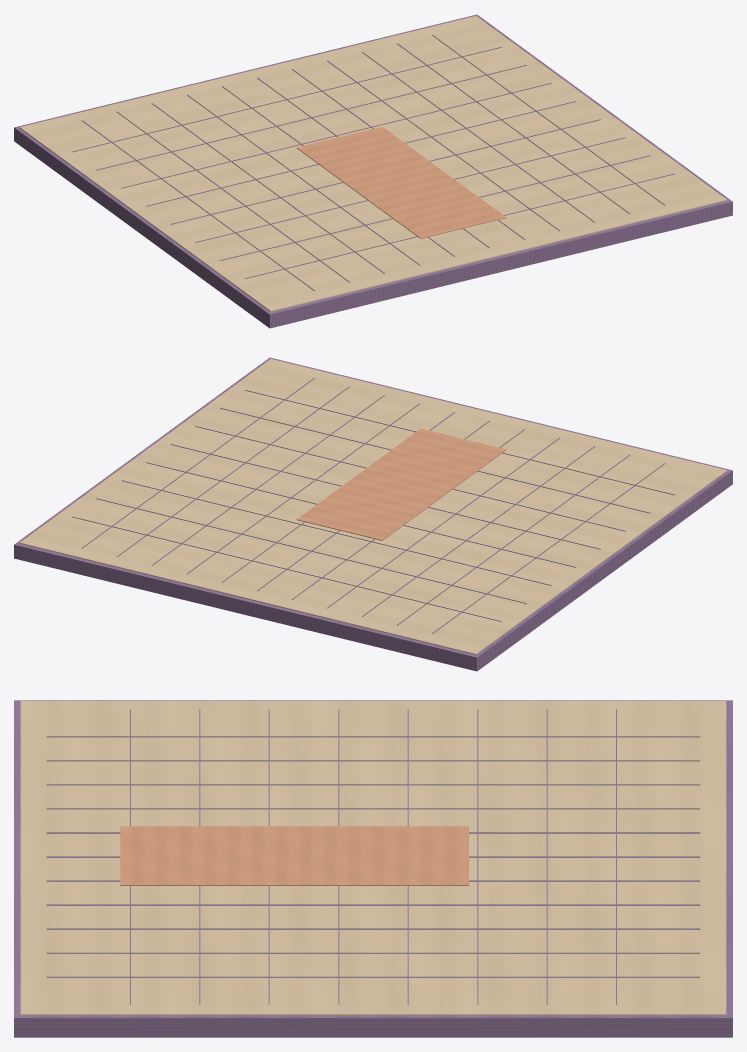
File: atlas100-s081-a07.glb
The picture shows the model from 3 angles, top to bottom: view 1: azimuth 30°, elevation 25°; view 2: azimuth 150°, elevation 25°; view 3: azimuth 270°, elevation 25°; orthographic projection. The views are drawn at different scales.
Parts seen in each view (by area): view 1: atlas100-s081-a07:part-001, atlas100-s081-a07:part-000, atlas100-s081-a07:part-021, atlas100-s081-a07:part-013, atlas100-s081-a07:part-014, atlas100-s081-a07:part-015, atlas100-s081-a07:part-020, atlas100-s081-a07:part-018, atlas100-s081-a07:part-019, atlas100-s081-a07:part-017, atlas100-s081-a07:part-016; view 2: atlas100-s081-a07:part-001, atlas100-s081-a07:part-000, atlas100-s081-a07:part-021, atlas100-s081-a07:part-013, atlas100-s081-a07:part-015, atlas100-s081-a07:part-014, atlas100-s081-a07:part-020, atlas100-s081-a07:part-016, atlas100-s081-a07:part-017, atlas100-s081-a07:part-018, atlas100-s081-a07:part-019; view 3: atlas100-s081-a07:part-001, atlas100-s081-a07:part-000, atlas100-s081-a07:part-021, atlas100-s081-a07:part-010, atlas100-s081-a07:part-009, atlas100-s081-a07:part-012, atlas100-s081-a07:part-002, atlas100-s081-a07:part-003, atlas100-s081-a07:part-004, atlas100-s081-a07:part-005, atlas100-s081-a07:part-011, atlas100-s081-a07:part-006 (+4 smaller).
Part boxes in pixels (<box>): atlas100-s081-a07:part-001: <box>19,16,727,311</box>; atlas100-s081-a07:part-000: <box>14,14,732,328</box>; atlas100-s081-a07:part-021: <box>297,126,506,238</box>; atlas100-s081-a07:part-013: <box>72,47,502,152</box>; atlas100-s081-a07:part-014: <box>96,65,526,170</box>; atlas100-s081-a07:part-015: <box>121,83,551,188</box>; atlas100-s081-a07:part-020: <box>244,173,674,278</box>; atlas100-s081-a07:part-018: <box>195,137,625,242</box>; atlas100-s081-a07:part-019: <box>220,155,650,260</box>; atlas100-s081-a07:part-017: <box>170,119,600,224</box>; atlas100-s081-a07:part-016: <box>146,101,576,206</box>; atlas100-s081-a07:part-001: <box>19,359,727,654</box>; atlas100-s081-a07:part-000: <box>14,357,732,671</box>; atlas100-s081-a07:part-021: <box>296,428,506,540</box>; atlas100-s081-a07:part-013: <box>72,516,502,621</box>; atlas100-s081-a07:part-015: <box>121,480,551,585</box>; atlas100-s081-a07:part-014: <box>96,498,526,603</box>; atlas100-s081-a07:part-020: <box>244,390,674,495</box>; atlas100-s081-a07:part-016: <box>146,462,576,567</box>; atlas100-s081-a07:part-017: <box>170,444,600,549</box>; atlas100-s081-a07:part-018: <box>195,426,625,531</box>; atlas100-s081-a07:part-019: <box>220,408,650,513</box>; atlas100-s081-a07:part-001: <box>20,701,726,1015</box>; atlas100-s081-a07:part-000: <box>14,700,732,1037</box>; atlas100-s081-a07:part-021: <box>120,826,468,885</box>; atlas100-s081-a07:part-010: <box>46,928,700,929</box>; atlas100-s081-a07:part-009: <box>46,904,700,905</box>; atlas100-s081-a07:part-012: <box>46,976,700,977</box>; atlas100-s081-a07:part-002: <box>46,736,700,737</box>; atlas100-s081-a07:part-003: <box>46,760,700,761</box>; atlas100-s081-a07:part-004: <box>46,784,700,785</box>; atlas100-s081-a07:part-005: <box>46,808,700,809</box>; atlas100-s081-a07:part-011: <box>46,952,700,953</box>; atlas100-s081-a07:part-006: <box>46,832,700,833</box>.
Size of the model in its own units: 11.9 by 0.404 by 11.39.
Materials: 3 (3 with a texture image).
